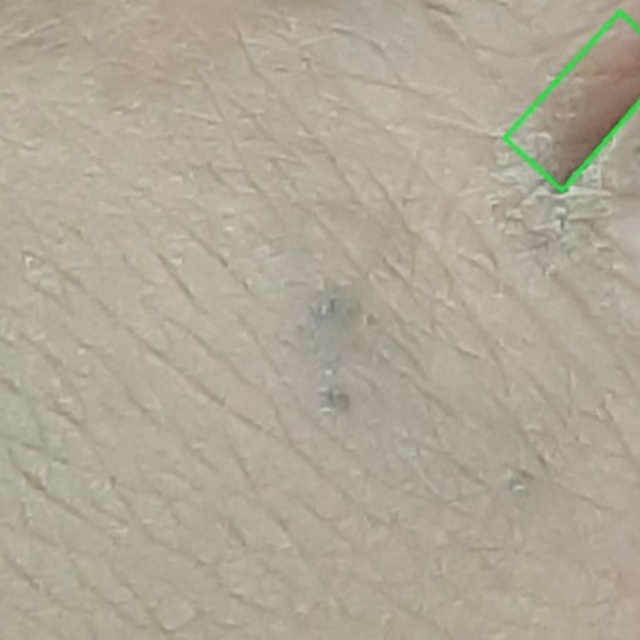Eczema: (498, 0, 639, 190)
